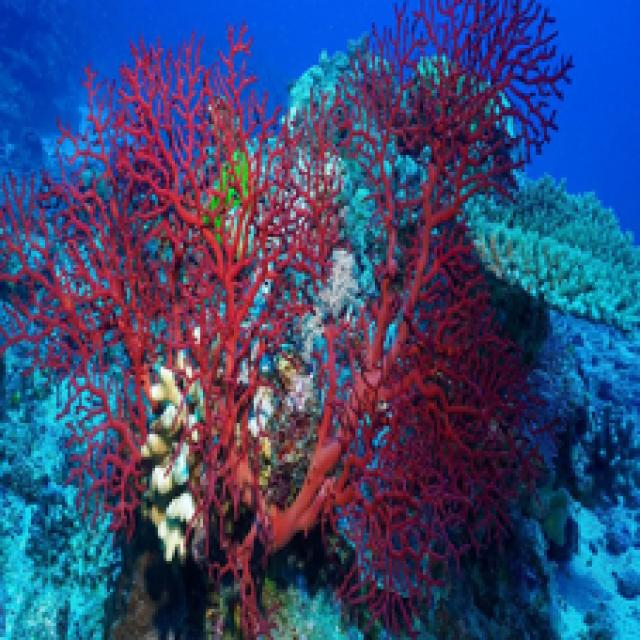Healthy: (1, 1, 571, 635), (472, 179, 638, 328)
